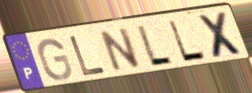G: (37, 37, 74, 83)
L: (166, 19, 210, 64), (67, 34, 109, 78), (135, 23, 176, 67)
N: (98, 25, 143, 74)
X: (195, 10, 248, 60)
